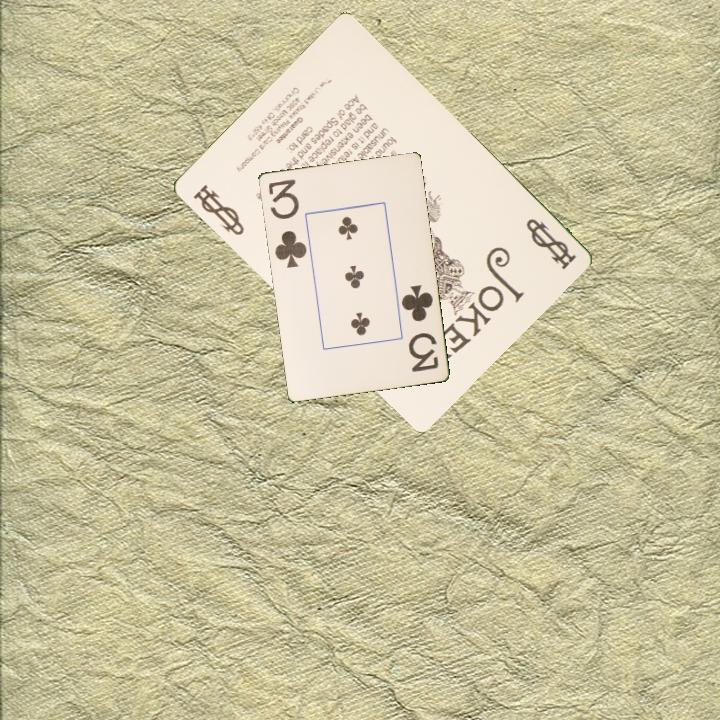3c: (264, 175, 309, 270), (398, 281, 441, 375)
JK: (521, 214, 579, 273), (189, 181, 247, 239)
